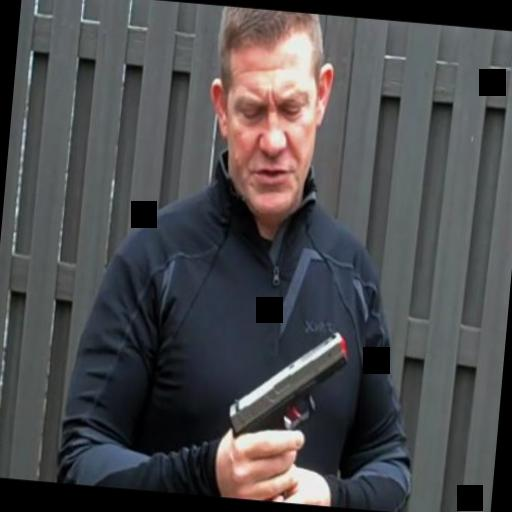Handgun: (210, 317, 358, 502)
